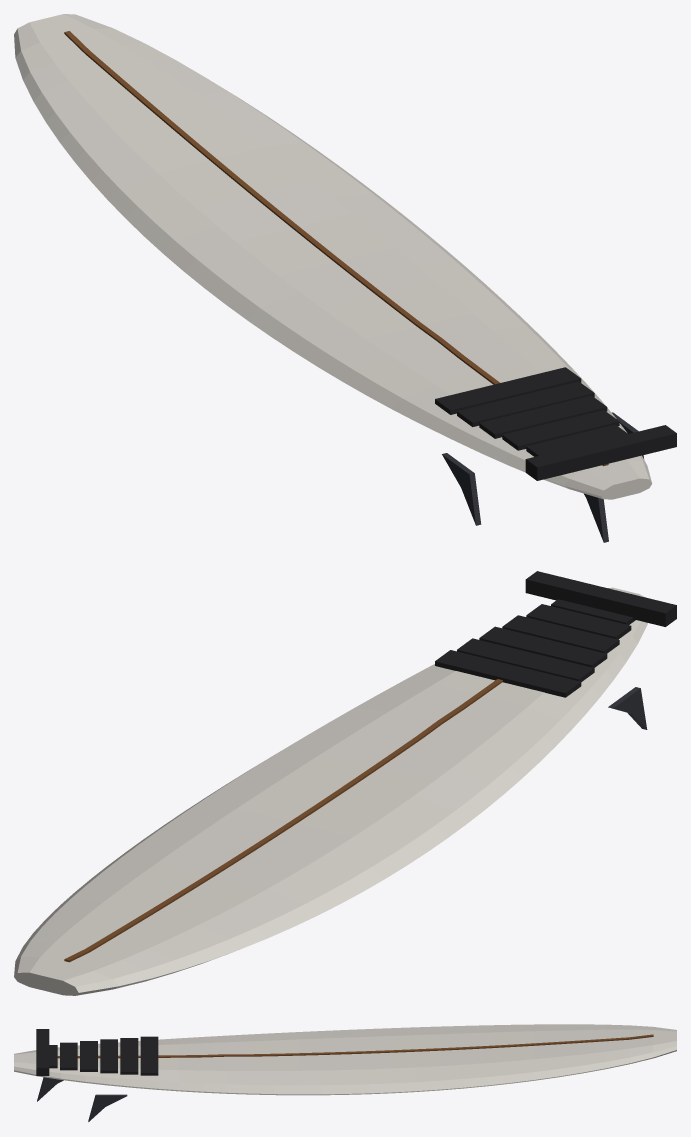
File: gb-surfboard.glb
3 views of the same model, one above another, from view 1: azimuth 30°, elevation 25°; view 2: azimuth 150°, elevation 25°; view 3: azimuth 270°, elevation 25° (orthographic). The views are drawn at different scales.
Parts seen in each view (by area): view 1: gb-surfboard; view 2: gb-surfboard; view 3: gb-surfboard.
Boxes of the visible parts, x1,y1,x2,y2 form: gb-surfboard: (14,14,676,542); gb-surfboard: (14,571,676,995); gb-surfboard: (14,1024,676,1121).
Size of the model in its own units: 0.5093 by 0.2537 by 2.3.
